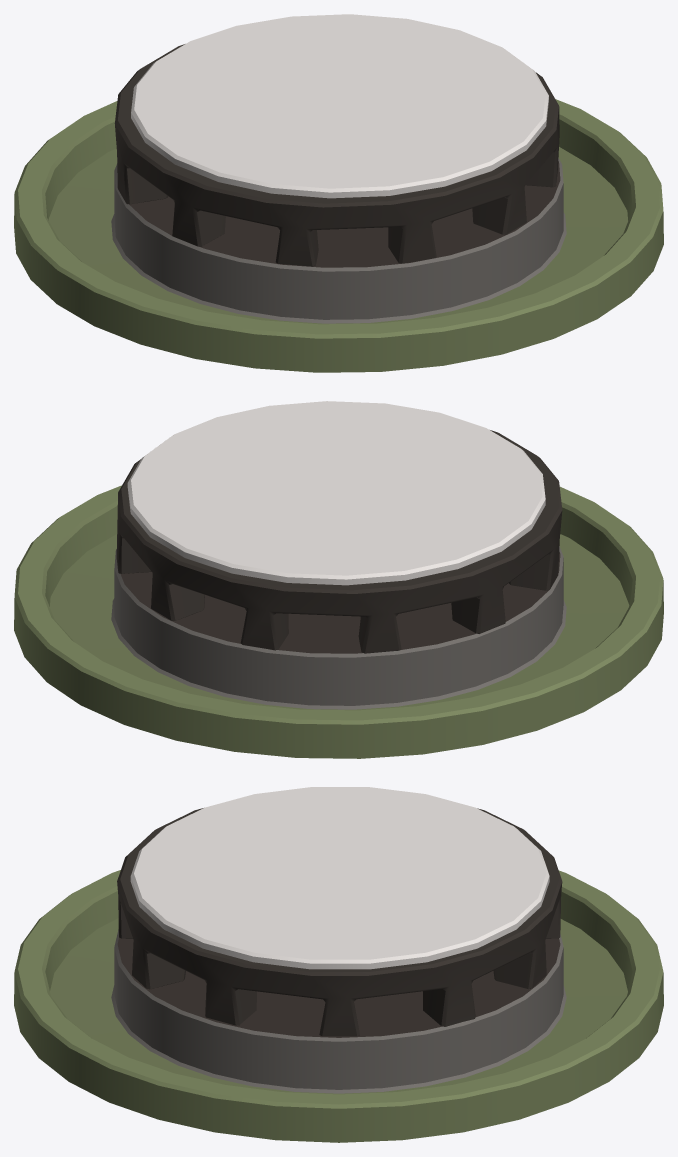
The model's file is PC_Bottom.fbx.
3 views of the same model, one above another, from view 1: azimuth 30°, elevation 25°; view 2: azimuth 150°, elevation 25°; view 3: azimuth 270°, elevation 25° (orthographic).
Visible parts, largest first — view 1: PC_Bottom; view 2: PC_Bottom; view 3: PC_Bottom.
Boxes of the visible parts, bbox=[...] form: PC_Bottom: bbox=[14, 14, 663, 372]; PC_Bottom: bbox=[14, 401, 663, 758]; PC_Bottom: bbox=[14, 787, 663, 1142].
Bounding box in the file's own units: 0.5772 × 0.1302 × 0.5772.
